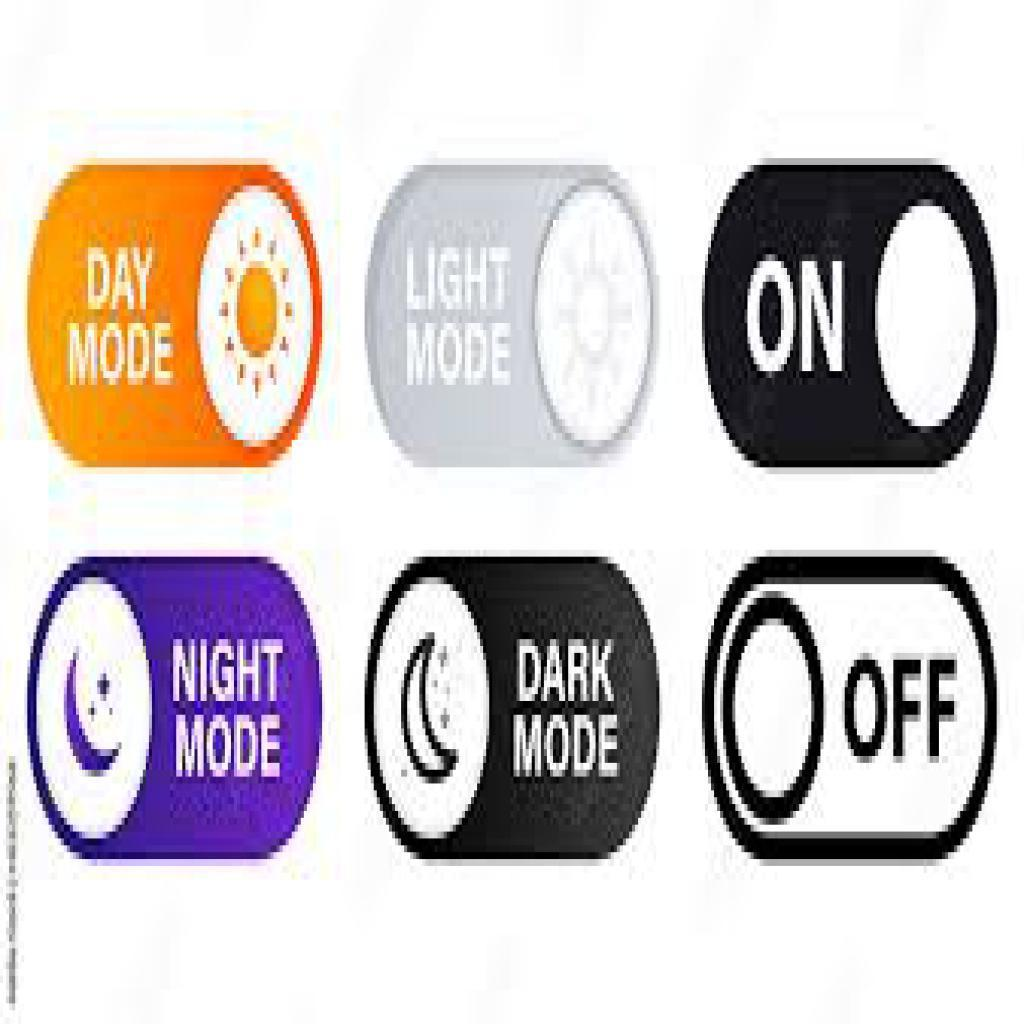switch: (698, 549, 1002, 867), (699, 160, 996, 472), (29, 556, 329, 861), (365, 560, 662, 862), (34, 164, 323, 470), (364, 164, 658, 464)
